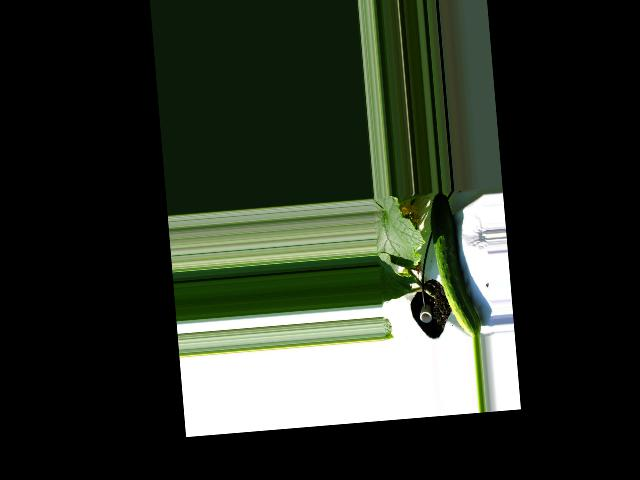cucumber: (428, 189, 482, 340)
